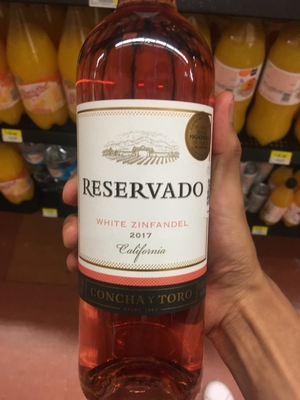reservado white zinfandel: (64, 11, 229, 366)
